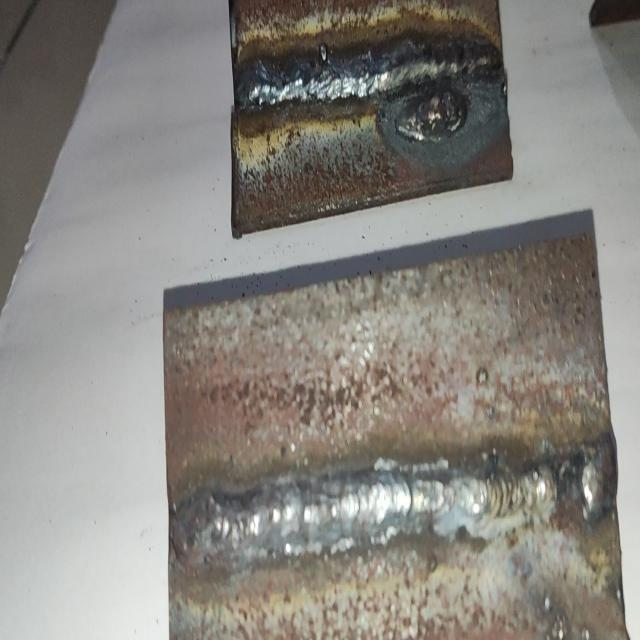Bad Weld: (176, 439, 614, 573), (242, 44, 502, 116)
Defect: (393, 36, 477, 146), (540, 431, 607, 543)
